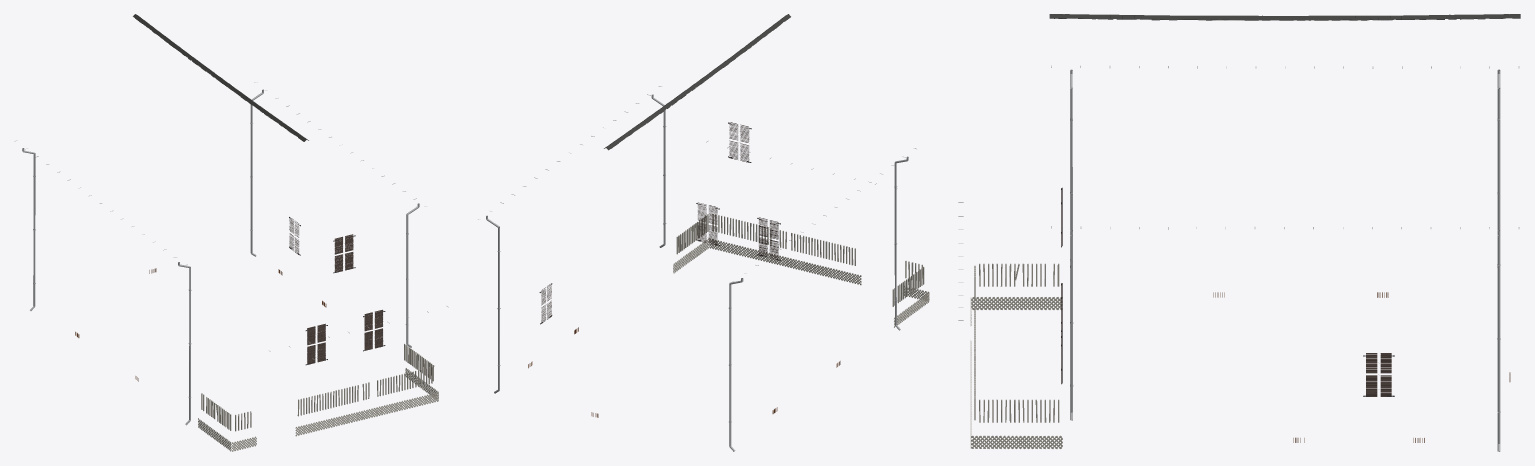
The model's file is details_exterior.glb.
3 renders of one model, left to right at view 1: azimuth 30°, elevation 25°; view 2: azimuth 150°, elevation 25°; view 3: azimuth 270°, elevation 25°, orthographic. The views are drawn at different scales.
Parts seen in each view (by area): view 1: EXT2_porch_detail, EXT2_roof_trim_detail, EXT2_trim_detail; view 2: EXT2_porch_detail, EXT2_roof_trim_detail, EXT2_trim_detail; view 3: EXT2_roof_trim_detail, EXT2_porch_detail, EXT2_trim_detail.
Part boxes in pixels (x1,y1,x2,y2): EXT2_porch_detail: (198,344,438,451); EXT2_roof_trim_detail: (14,14,426,425); EXT2_trim_detail: (289,217,385,365); EXT2_porch_detail: (673,213,929,327); EXT2_roof_trim_detail: (478,14,916,451); EXT2_trim_detail: (539,122,780,324); EXT2_roof_trim_detail: (1049,14,1520,451); EXT2_porch_detail: (970,263,1062,448); EXT2_trim_detail: (1061,187,1394,396).
Size of the model in its own units: 10.6 by 11.1 by 15.46.
